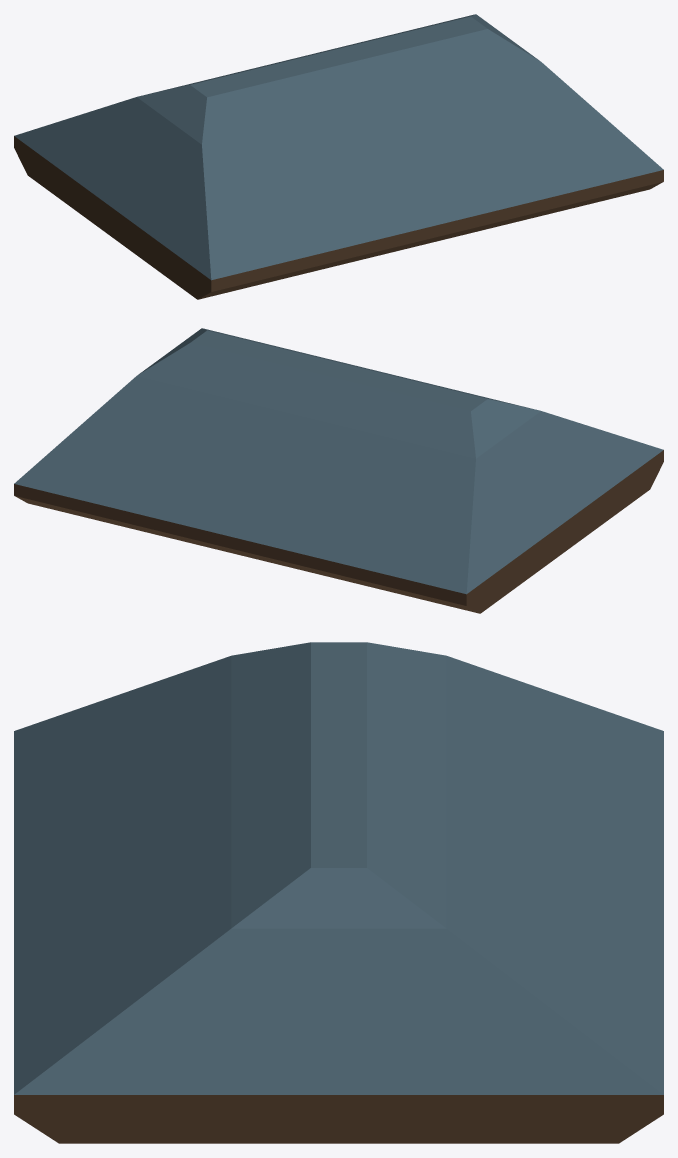
File: gallery_roof.glb
The picture shows the model from 3 angles, top to bottom: view 1: azimuth 30°, elevation 25°; view 2: azimuth 150°, elevation 25°; view 3: azimuth 270°, elevation 25°; orthographic projection. The views are drawn at different scales.
Visible parts, largest first — view 1: Gallery roof; view 2: Gallery roof; view 3: Gallery roof.
Part boxes in pixels (bbox=[...]): Gallery roof: bbox=[14, 14, 663, 299]; Gallery roof: bbox=[14, 328, 663, 613]; Gallery roof: bbox=[14, 642, 663, 1143].
Bounding box in the file's own units: 2 × 0.53 × 1.51.
